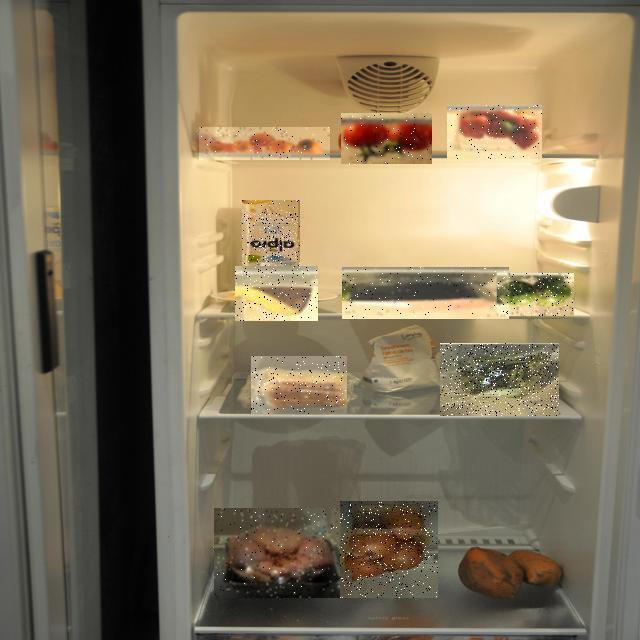Beans: (440, 343, 559, 416)
Bread: (251, 356, 347, 414)
Carrot: (199, 127, 330, 160)
Cheese: (235, 266, 318, 321)
Lime: (497, 273, 574, 316)
Meat: (214, 509, 340, 599), (342, 267, 509, 319)
Milk: (242, 200, 300, 276)
Onion: (340, 501, 438, 598)
Straw Berry: (447, 105, 542, 159)
Tomatoes: (341, 113, 432, 164)
